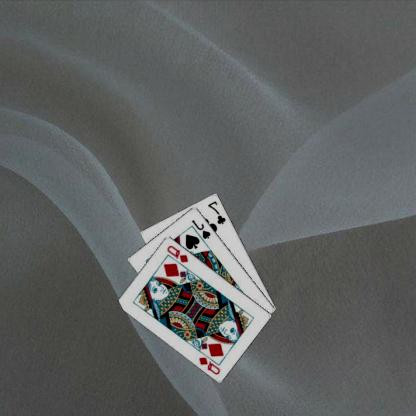7C: (207, 198, 229, 226)
JS: (191, 217, 213, 240)
QD: (198, 354, 223, 376), (166, 242, 191, 263)
